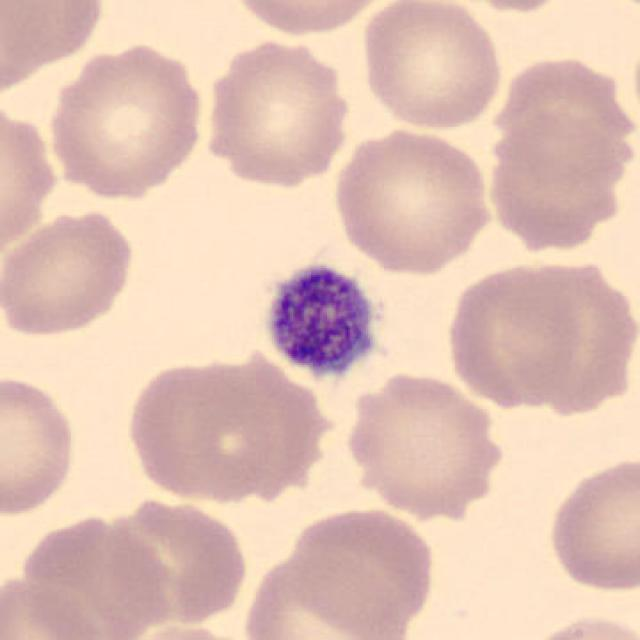Platelets: (260, 254, 390, 386)
RBC: (43, 37, 208, 201), (329, 123, 496, 275), (341, 367, 505, 520), (121, 354, 283, 506), (199, 36, 356, 190), (496, 254, 640, 418), (441, 259, 585, 411), (85, 497, 254, 624), (487, 101, 622, 255), (493, 50, 635, 196), (285, 500, 439, 634), (357, 0, 507, 132), (0, 202, 140, 340), (22, 516, 174, 637), (240, 550, 412, 640), (542, 451, 638, 596), (0, 369, 82, 520), (0, 0, 108, 81), (0, 569, 110, 640), (224, 0, 396, 39), (523, 610, 638, 640), (113, 620, 261, 640), (448, 0, 580, 14), (597, 0, 639, 19)
